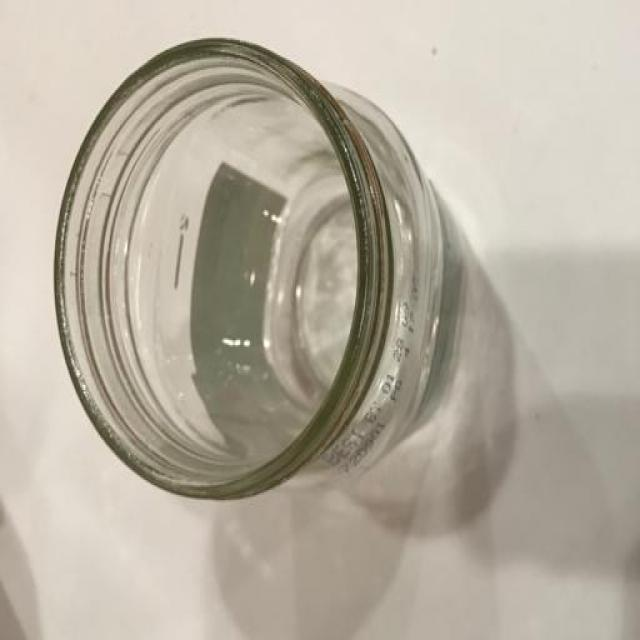glass: (50, 30, 471, 538)
